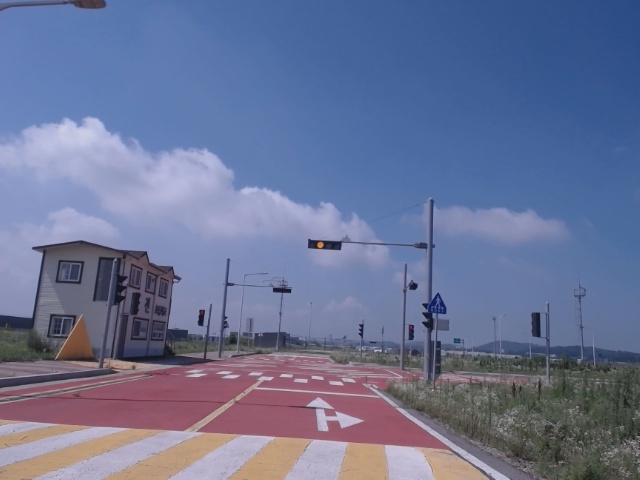orange_4: (308, 240, 341, 250)
